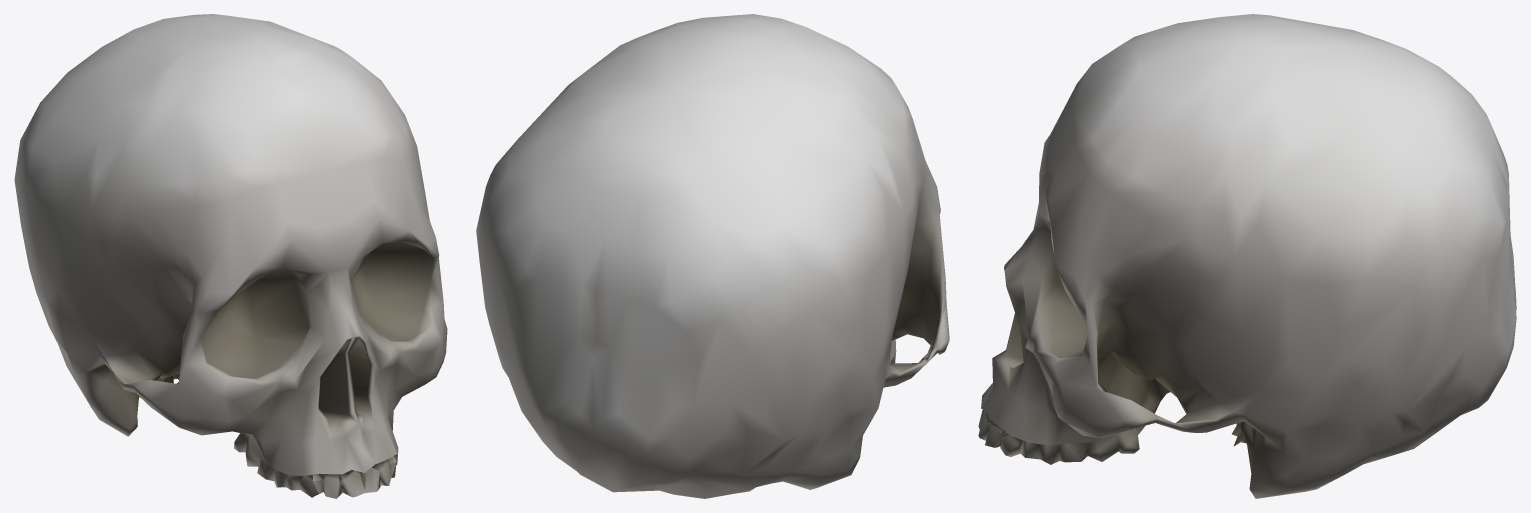
Rendered from animals-animalparts-skeleton_v20.glb.
3 views of the same model, side by side, from view 1: azimuth 30°, elevation 25°; view 2: azimuth 150°, elevation 25°; view 3: azimuth 270°, elevation 25° (orthographic). The views are drawn at different scales.
Visible parts, largest first — view 1: Skeleton_v20; view 2: Skeleton_v20; view 3: Skeleton_v20.
Boxes of the visible parts, x1=… form: Skeleton_v20: x1=14, y1=14, x2=447, y2=498; Skeleton_v20: x1=476, y1=14, x2=949, y2=498; Skeleton_v20: x1=978, y1=14, x2=1516, y2=498.
Bounding box in the file's own units: 0.1722 × 0.1814 × 0.2181.
